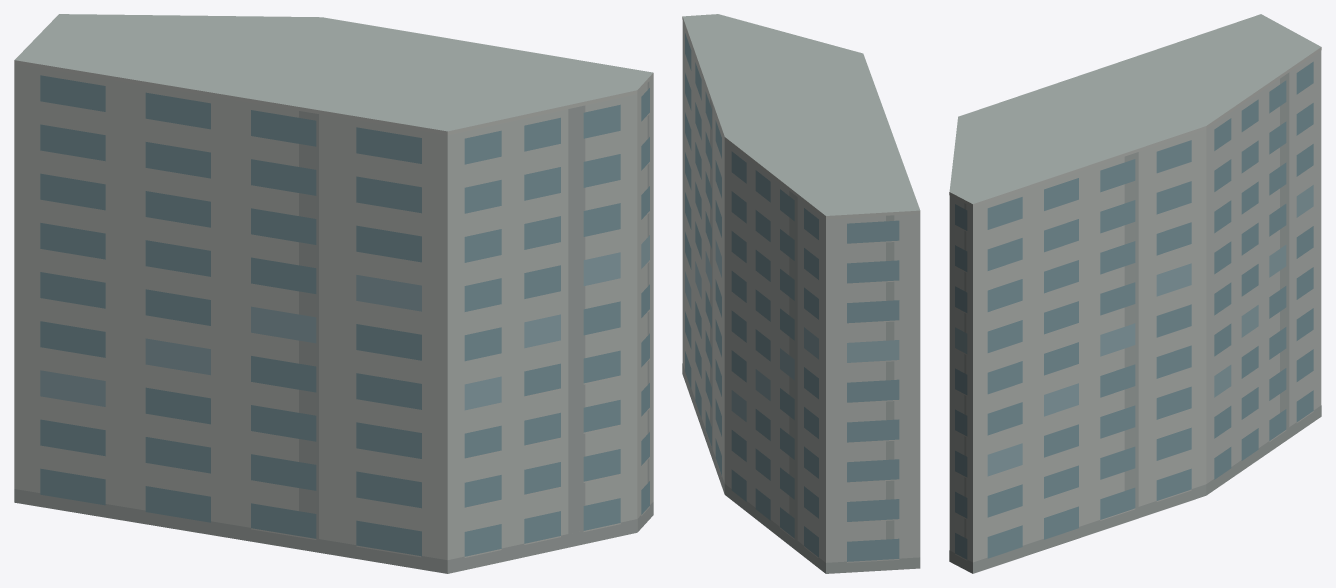
Rendered from survey-upis-32696934.glb.
The picture shows the model from 3 angles, left to right: view 1: azimuth 30°, elevation 25°; view 2: azimuth 150°, elevation 25°; view 3: azimuth 270°, elevation 25°; orthographic projection. The views are drawn at different scales.
Visible parts, largest first — view 1: survey-upis-32696934.tmp; view 2: survey-upis-32696934.tmp; view 3: survey-upis-32696934.tmp.
Boxes of the visible parts, left/top/right/bottom form: survey-upis-32696934.tmp: left=14, top=14, right=653, bottom=573; survey-upis-32696934.tmp: left=682, top=14, right=920, bottom=573; survey-upis-32696934.tmp: left=949, top=14, right=1321, bottom=573.
Size of the model in its own units: 30.3 by 27.45 by 25.04.
